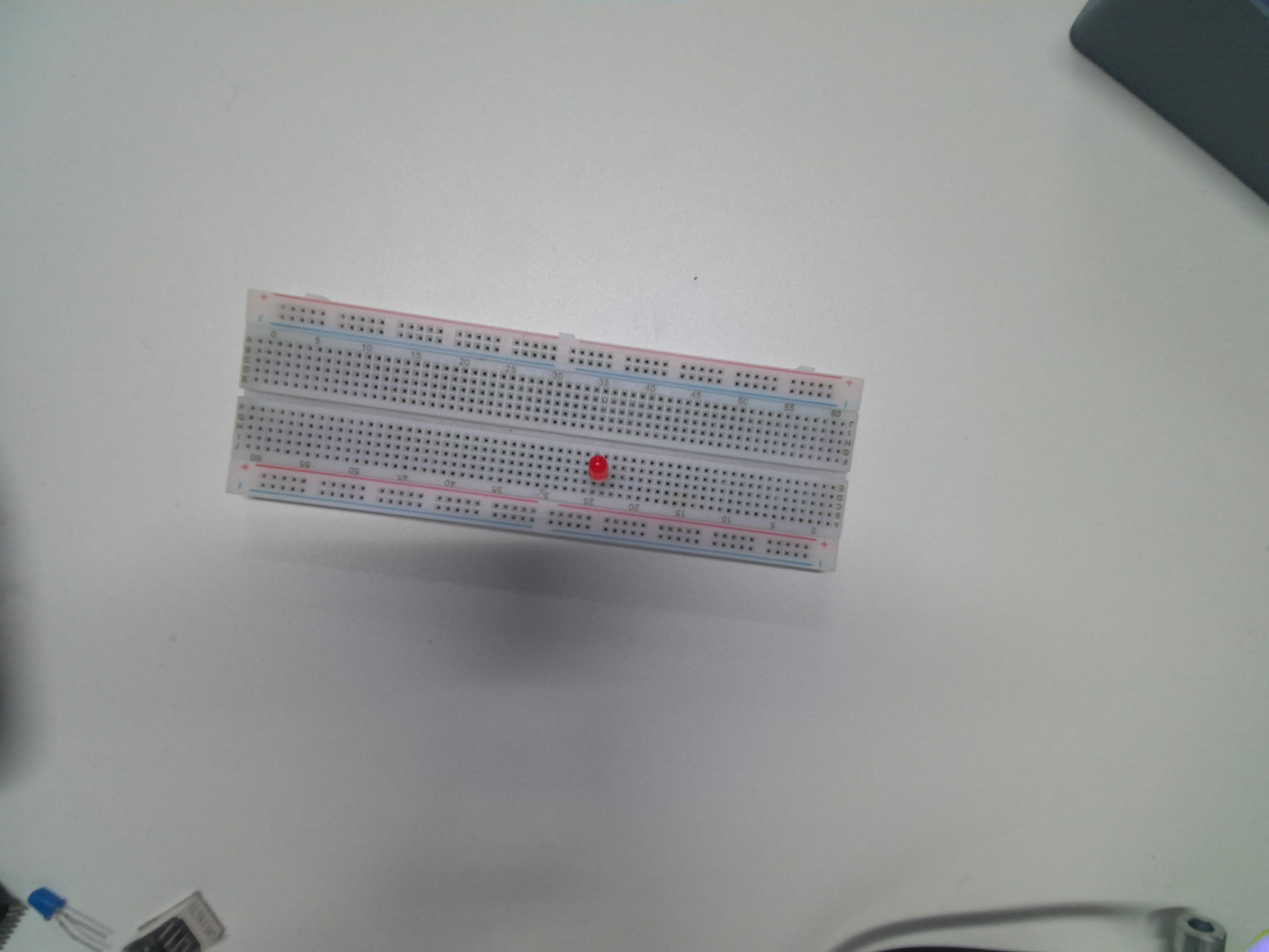base: (224, 285, 867, 580)
red-led: (587, 453, 609, 479)
